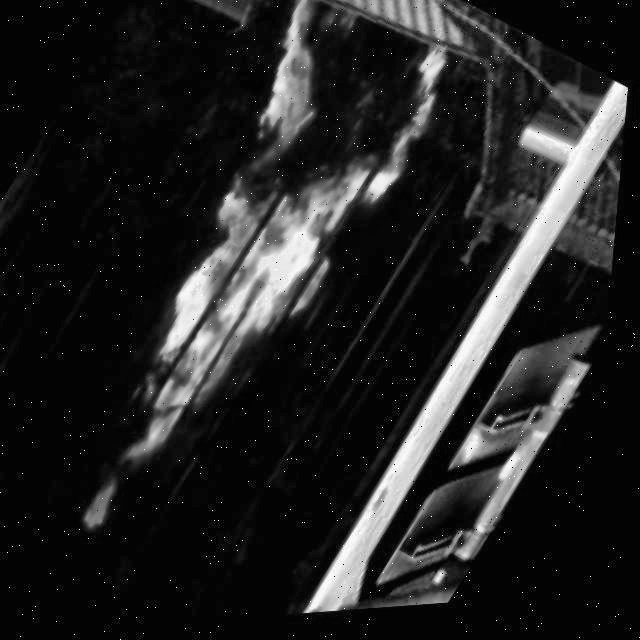Fire: (52, 0, 474, 491)
